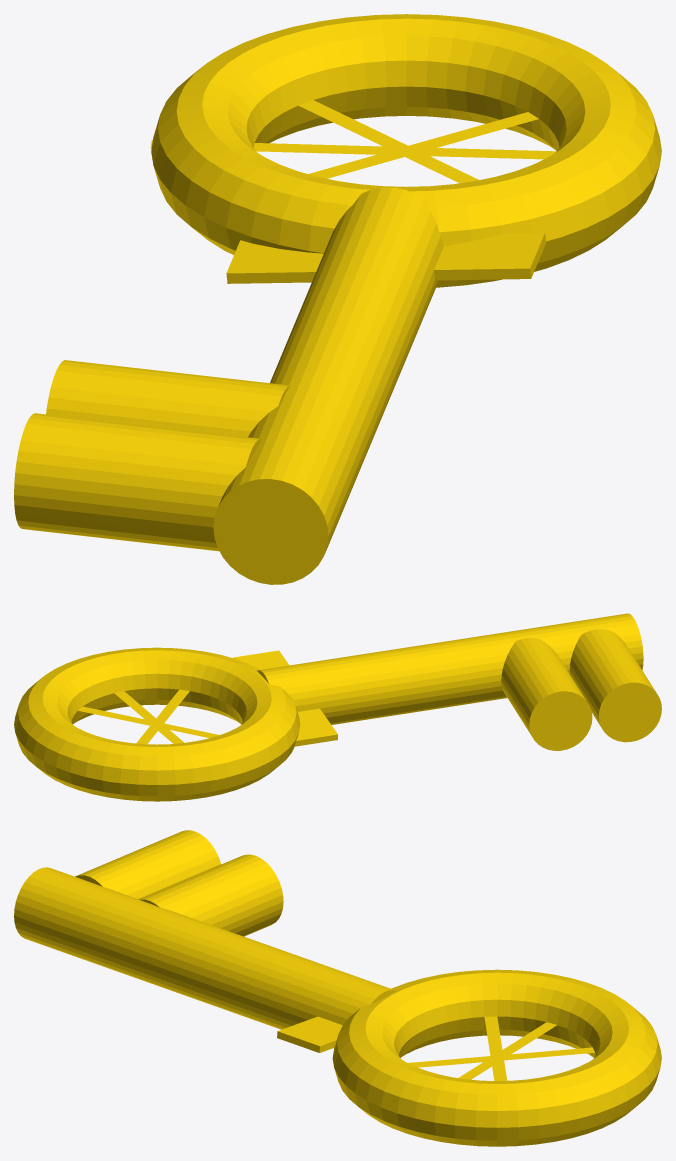
Rendered from KeyGold.fbx.
The picture shows the model from 3 angles, top to bottom: view 1: azimuth 30°, elevation 25°; view 2: azimuth 150°, elevation 25°; view 3: azimuth 270°, elevation 25°; orthographic projection. The views are drawn at different scales.
Parts seen in each view (by area): view 1: KeyGold; view 2: KeyGold; view 3: KeyGold.
Part boxes in pixels (bbox=[...]): KeyGold: bbox=[14, 14, 661, 584]; KeyGold: bbox=[14, 613, 661, 801]; KeyGold: bbox=[14, 830, 661, 1146].
Bounding box in the file's own units: 3.43 × 0.4 × 3.44.
